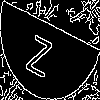Z: (25, 25, 56, 79)
